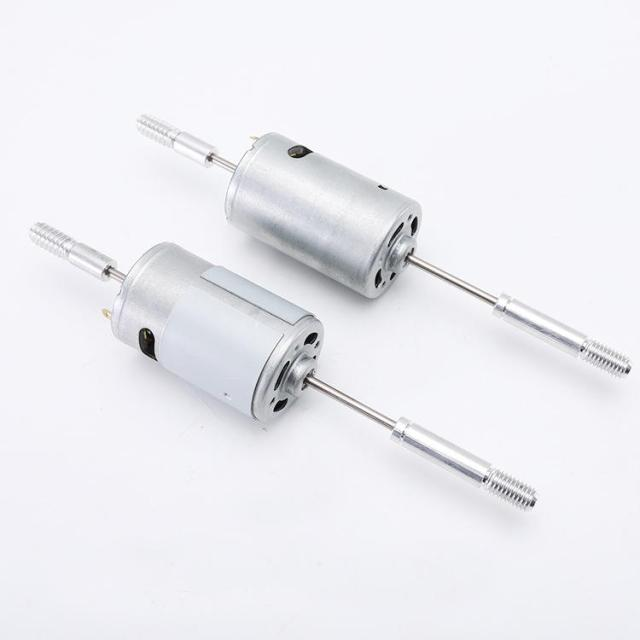motor: (33, 225, 542, 510), (142, 118, 640, 382)
